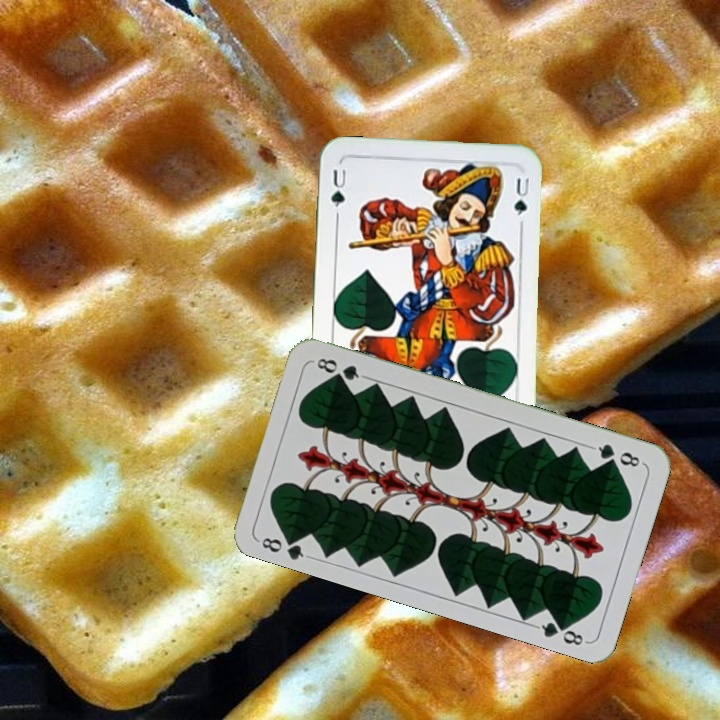G8: (254, 529, 312, 562), (588, 439, 646, 470)
GU: (327, 163, 349, 220)
